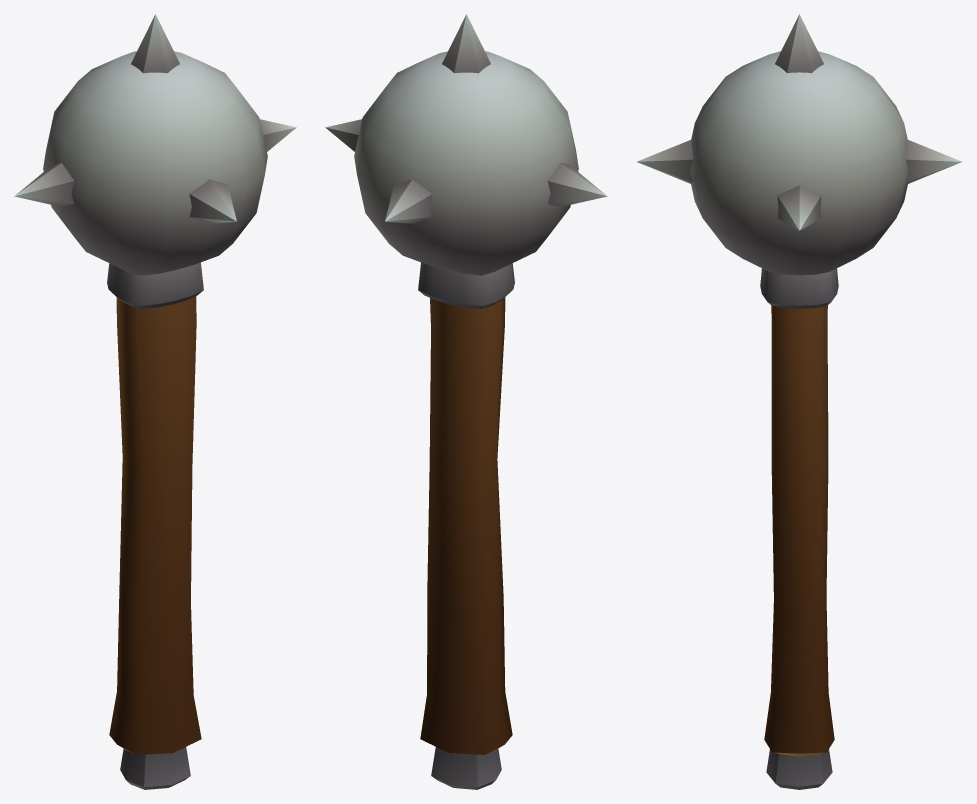
File: Mace_03.glb
3 views of the same model, side by side, from view 1: azimuth 30°, elevation 25°; view 2: azimuth 150°, elevation 25°; view 3: azimuth 270°, elevation 25° (orthographic).
Visible parts, largest first — view 1: Mace_03; view 2: Mace_03; view 3: Mace_03.
Boxes of the visible parts, box(x1,y1,x2,y2) form: Mace_03: box(14, 14, 296, 789); Mace_03: box(325, 14, 607, 789); Mace_03: box(636, 14, 962, 789).
Bounding box in the file's own units: 0.4318 × 1.12 × 0.4318.
1 material, 1 textured.
